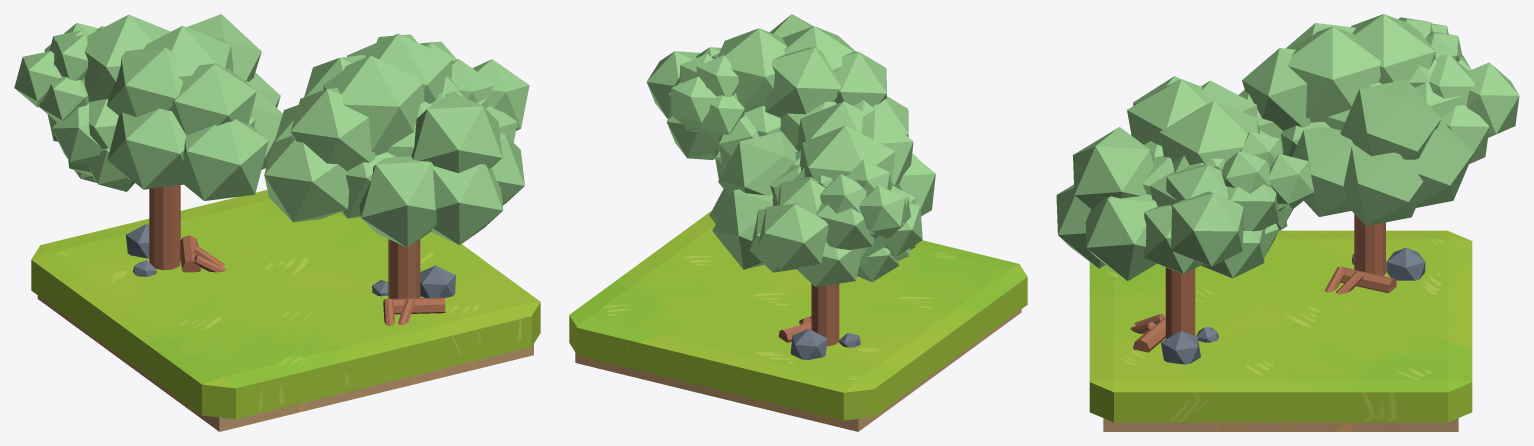
Rendered from threestiles.fbx.
The picture shows the model from 3 angles, left to right: view 1: azimuth 30°, elevation 25°; view 2: azimuth 150°, elevation 25°; view 3: azimuth 270°, elevation 25°; orthographic projection. The views are drawn at different scales.
Parts seen in each view (by area): view 1: Cube.001, Cylinder.003, Cylinder.001, Cube; view 2: Cube.001, Cylinder.001, Cylinder.003, Cube; view 3: Cube.001, Cylinder.001, Cylinder.003, Cube.
Boxes of the visible parts, x1,y1,x2,y2 form: Cube.001: (31, 190, 540, 419); Cylinder.003: (264, 33, 529, 325); Cylinder.001: (14, 14, 282, 276); Cube: (37, 295, 533, 431); Cube.001: (569, 210, 1027, 420); Cylinder.001: (709, 100, 935, 359); Cylinder.003: (646, 14, 908, 179); Cube: (575, 309, 1021, 431); Cube.001: (1089, 230, 1472, 422); Cylinder.001: (1239, 14, 1519, 294); Cylinder.003: (1056, 76, 1313, 364); Cube: (1103, 418, 1458, 431).
Size of the model in its own units: 124 by 91.37 by 130.
